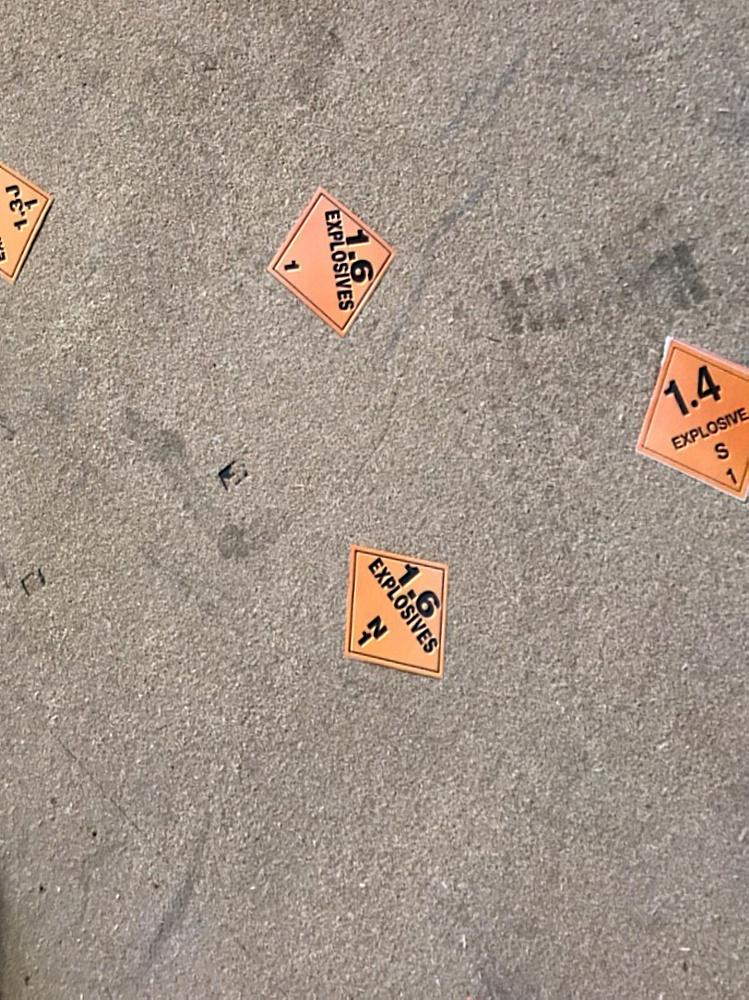explosive: (628, 337, 749, 510), (263, 187, 398, 338), (340, 539, 452, 685), (1, 148, 54, 291)
